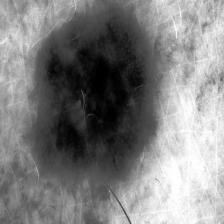Benign Marking or Mole: (38, 10, 152, 184)
